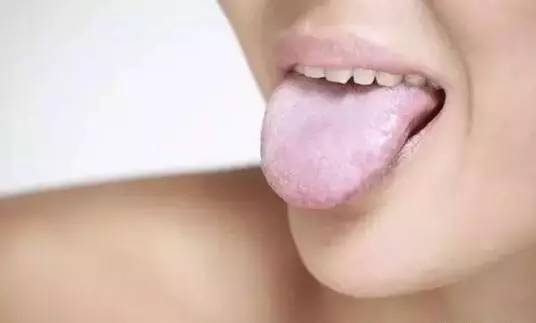baitaishe: (261, 74, 436, 209)
